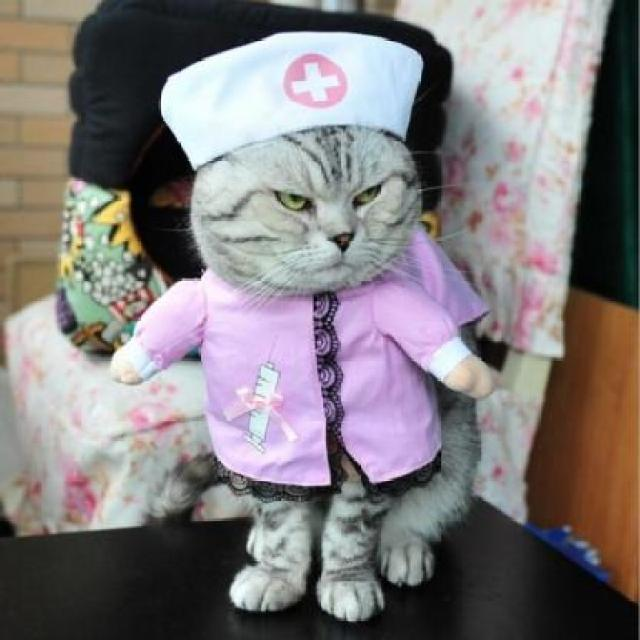cat: (168, 108, 438, 306)
